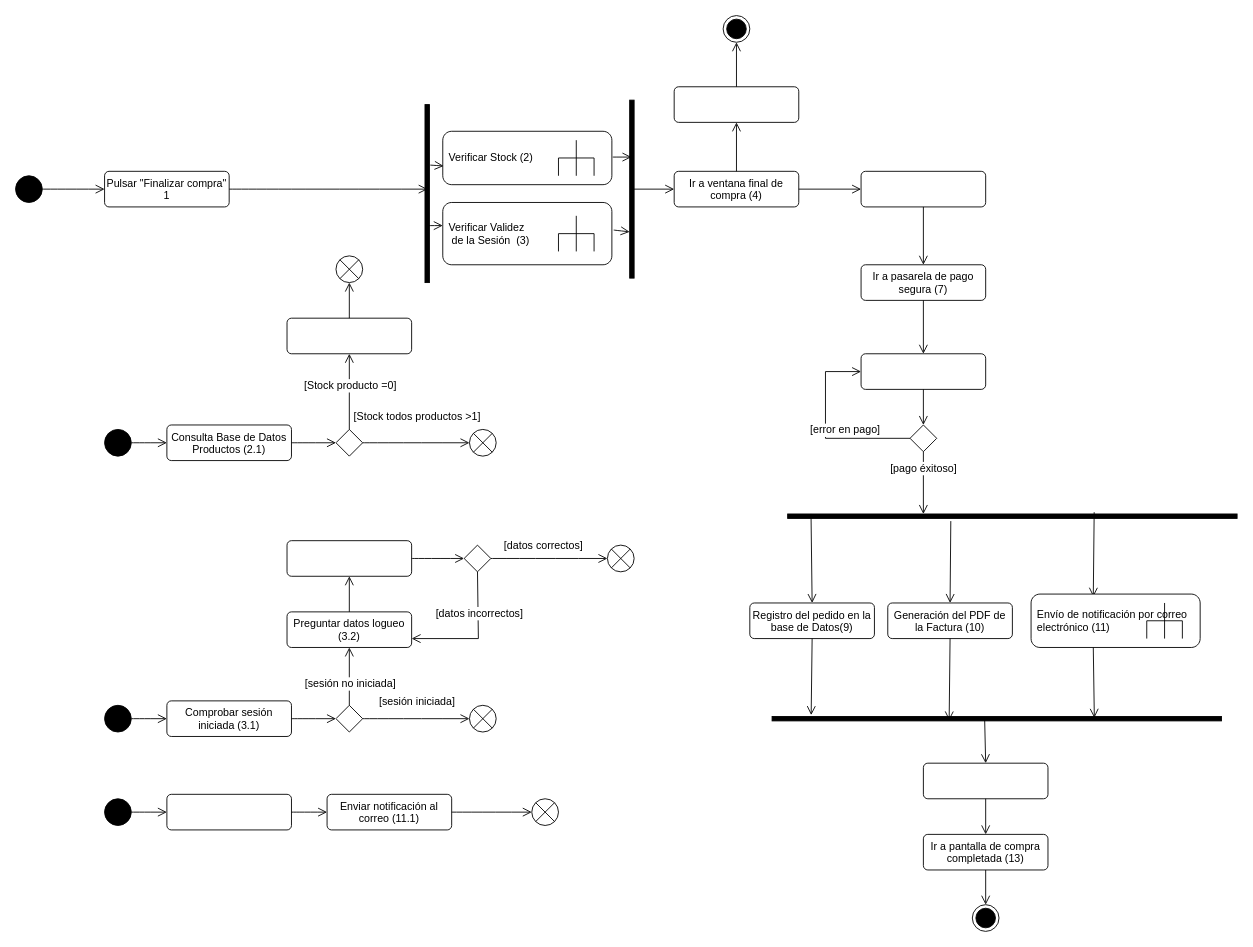
Some shapes in this 1253 by 947 pixel diagram are drawn without their labels. Each missing label, with the centre of its shape:
Confirmar compra(6): (x=923, y=188)
Consulta correo asociado con cuenta (11.1): (x=228, y=811)
Mostrar mensaje de confirmación (12): (x=985, y=780)
Pedir datos de pago (8): (x=923, y=371)
Pulsar Salir(5): (x=736, y=104)
Quitar productos Stock =0 de la cesta (2.2): (x=349, y=335)
Verificar datos en Base de Datos (3.3): (x=349, y=558)
